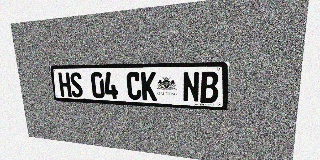0: (90, 72, 105, 98)
4: (103, 72, 118, 99)
B: (200, 72, 219, 103)
C: (126, 72, 142, 100)
H: (58, 72, 72, 97)
K: (141, 72, 157, 101)
N: (182, 72, 200, 103)
S: (69, 72, 83, 98)
